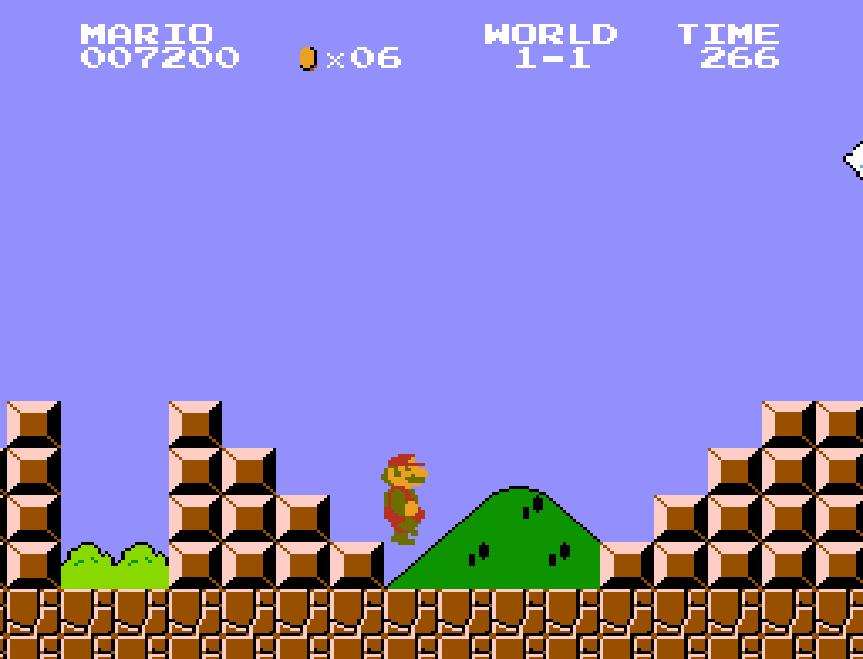big_mario: (376, 449, 434, 547)
